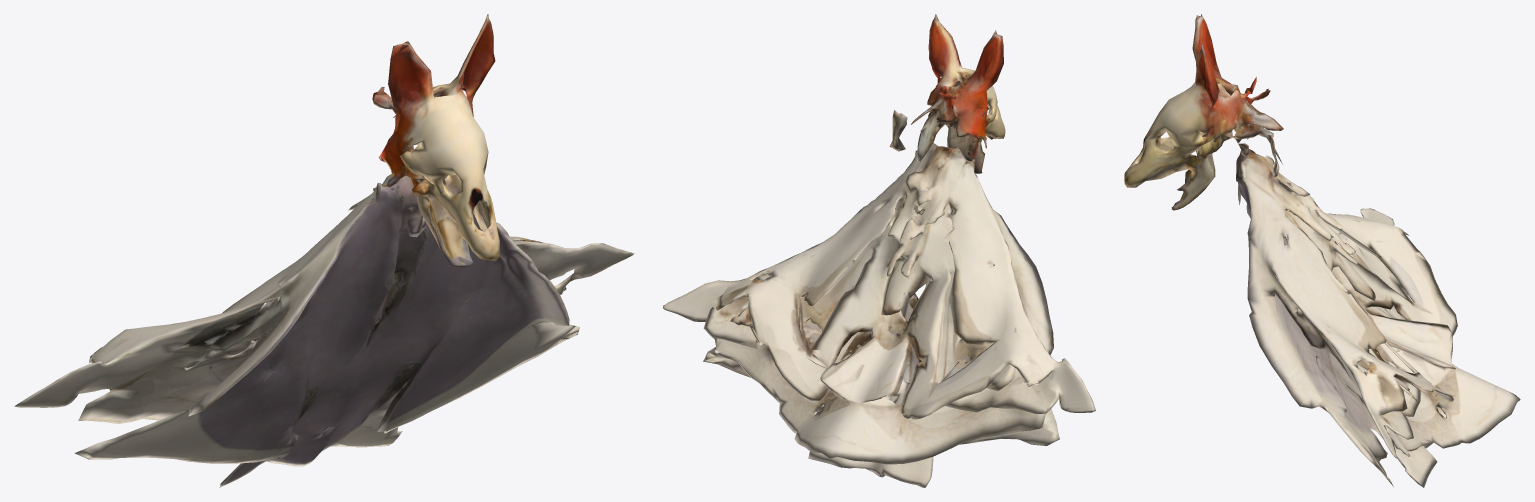
File: Meshy_AI_Welsh_Tradition_on_th_0306111637_texture.fbx
The picture shows the model from 3 angles, left to right: view 1: azimuth 30°, elevation 25°; view 2: azimuth 150°, elevation 25°; view 3: azimuth 270°, elevation 25°; orthographic projection. The views are drawn at different scales.
Parts seen in each view (by area): view 1: Mesh1_Mesh1.016; view 2: Mesh1_Mesh1.016; view 3: Mesh1_Mesh1.016.
Boxes of the visible parts, x1,y1,x2,y2 form: Mesh1_Mesh1.016: (14,14,634,487); Mesh1_Mesh1.016: (663,14,1095,487); Mesh1_Mesh1.016: (1124,14,1520,487).
Size of the model in its own units: 201 by 169 by 141.
1 material, 1 textured.
